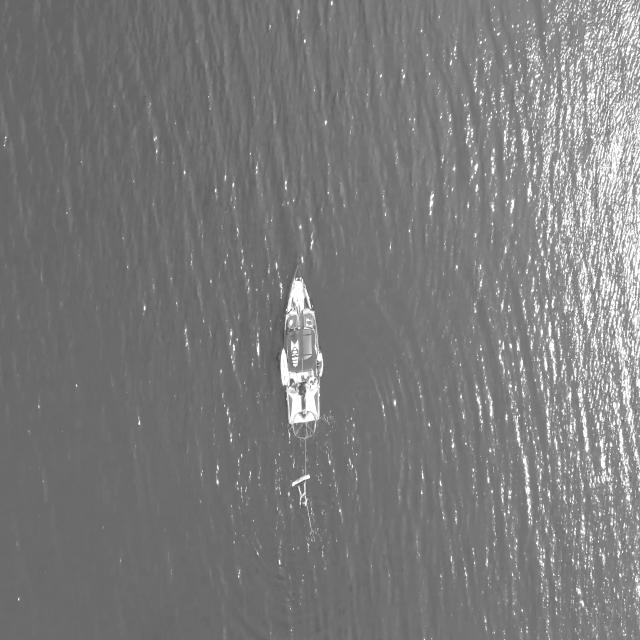ship: (286, 270, 323, 439), (279, 345, 290, 388)
